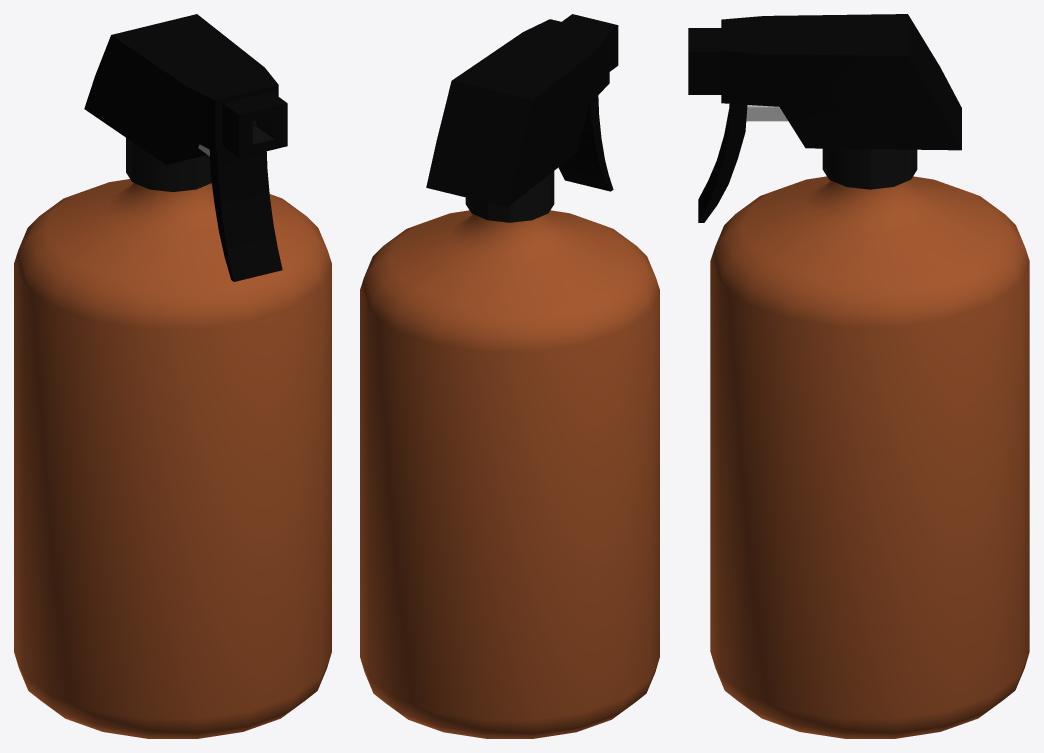
The model's file is Bottles_08.glb.
The picture shows the model from 3 angles, left to right: view 1: azimuth 30°, elevation 25°; view 2: azimuth 150°, elevation 25°; view 3: azimuth 270°, elevation 25°; orthographic projection. The views are drawn at different scales.
Visible parts, largest first — view 1: Mesh_Bottles_08; view 2: Mesh_Bottles_08; view 3: Mesh_Bottles_08.
Boxes of the visible parts, left/top/right/bottom form: Mesh_Bottles_08: left=14, top=14, right=331, bottom=738; Mesh_Bottles_08: left=360, top=14, right=659, bottom=738; Mesh_Bottles_08: left=688, top=14, right=1029, bottom=738.
Bounding box in the file's own units: 0.084 × 0.1916 × 0.0912.
1 material, 1 textured.
